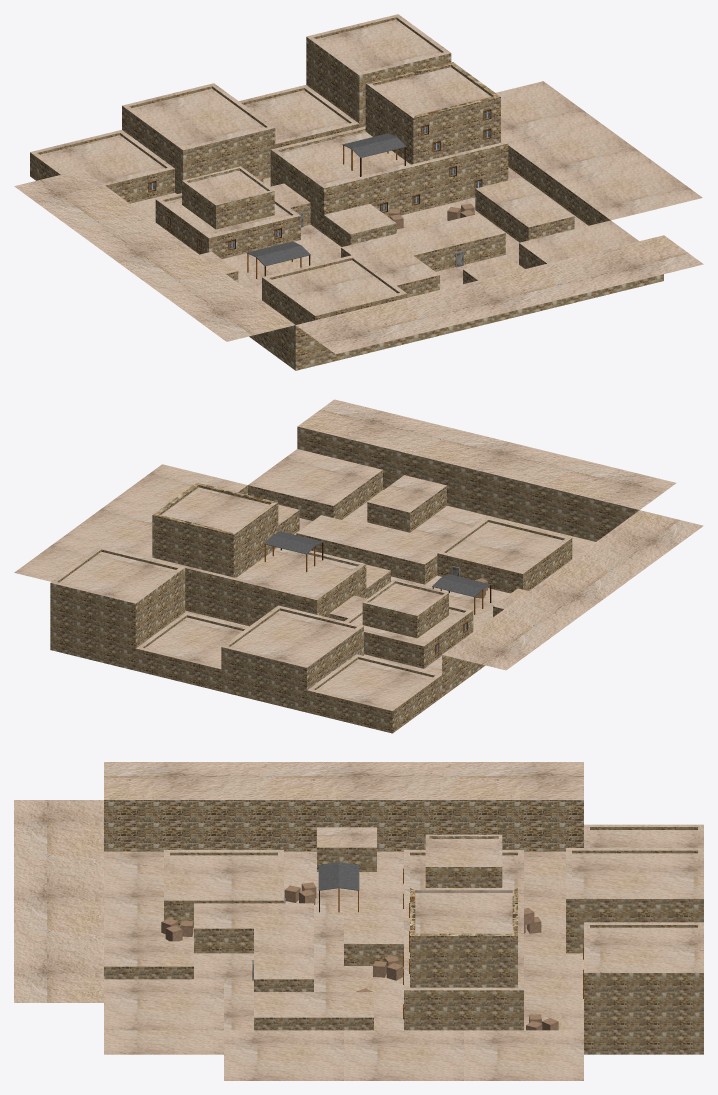
The model's file is Map_1.fbx.
3 views of the same model, one above another, from view 1: azimuth 30°, elevation 25°; view 2: azimuth 150°, elevation 25°; view 3: azimuth 270°, elevation 25° (orthographic). The views are drawn at different scales.
Visible parts, largest first — view 1: Plane; view 2: Plane; view 3: Plane.
Boxes of the visible parts, left/top/right/bottom form: Plane: left=14, top=14, right=703, bottom=370; Plane: left=14, top=399, right=703, bottom=733; Plane: left=14, top=762, right=703, bottom=1080.
Size of the model in its own units: 2300 by 380 by 2300.
